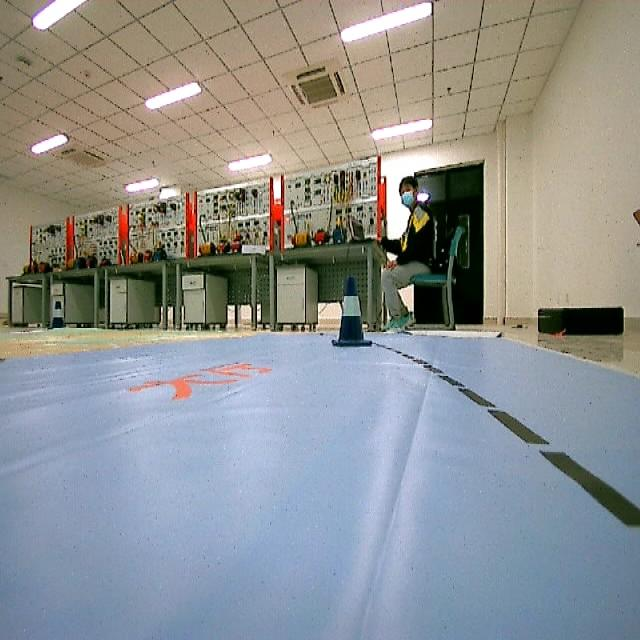obstacle: (328, 274, 370, 347)
